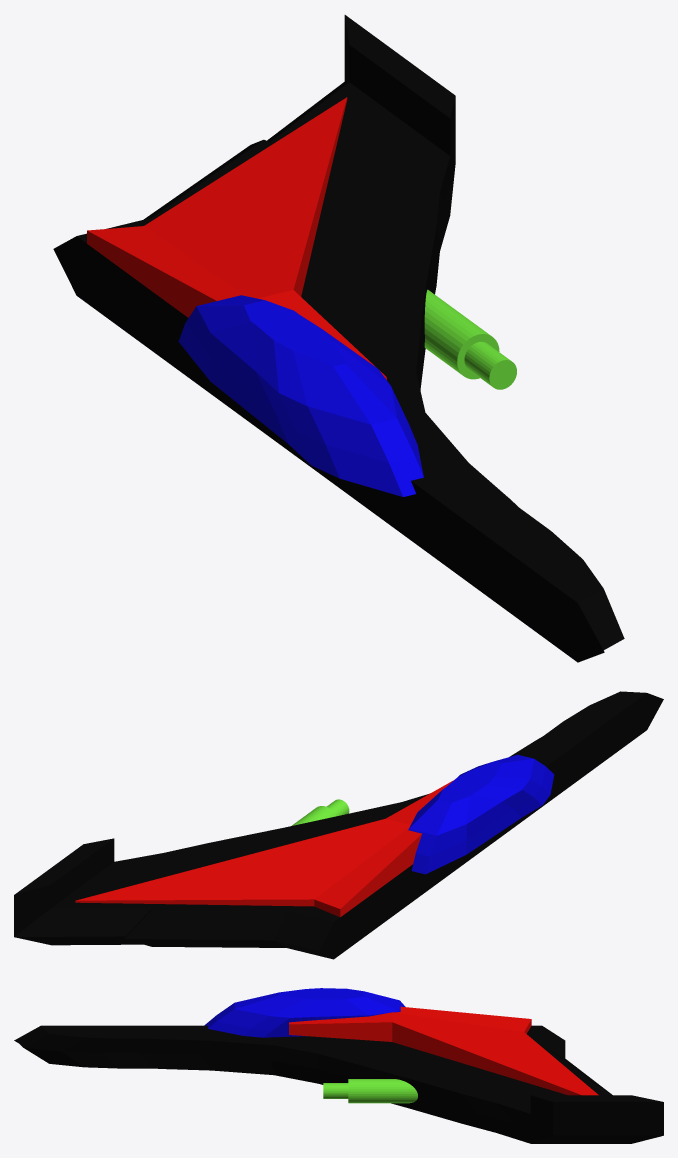
File: SpaceFighter.fbx
3 views of the same model, one above another, from view 1: azimuth 30°, elevation 25°; view 2: azimuth 150°, elevation 25°; view 3: azimuth 270°, elevation 25° (orthographic). The views are drawn at different scales.
Parts seen in each view (by area): view 1: Plane, Plane.001, Cube, Cylinder.003; view 2: Plane, Plane.001, Cube, Cylinder.003; view 3: Plane, Plane.001, Cube, Cylinder.003.
Boxes of the visible parts, bbox=[...] form: Plane: bbox=[53, 15, 624, 662]; Plane.001: bbox=[87, 97, 386, 379]; Cube: bbox=[178, 295, 423, 496]; Cylinder.003: bbox=[424, 289, 516, 389]; Plane: bbox=[14, 691, 663, 959]; Plane.001: bbox=[75, 780, 453, 917]; Cube: bbox=[408, 755, 554, 874]; Cylinder.003: bbox=[292, 799, 349, 825]; Plane: bbox=[14, 1025, 663, 1143]; Plane.001: bbox=[289, 1006, 598, 1095]; Cube: bbox=[204, 988, 405, 1037]; Cylinder.003: bbox=[323, 1079, 417, 1103].
Bounding box in the file's own units: 368 × 98.44 × 942.
